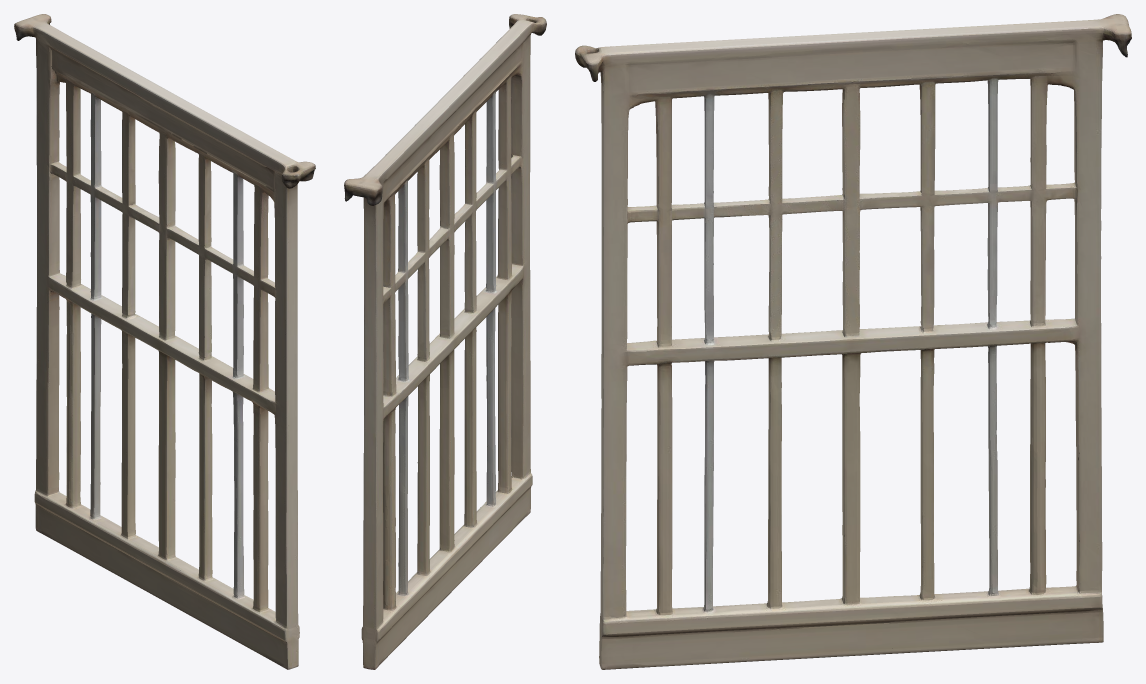
Rendered from window_on_right_000.glb.
The picture shows the model from 3 angles, left to right: view 1: azimuth 30°, elevation 25°; view 2: azimuth 150°, elevation 25°; view 3: azimuth 270°, elevation 25°; orthographic projection. The views are drawn at different scales.
Parts seen in each view (by area): view 1: phase2_final_window_on_right_000.obj; view 2: phase2_final_window_on_right_000.obj; view 3: phase2_final_window_on_right_000.obj.
Boxes of the visible parts, x1,y1,x2,y2 form: phase2_final_window_on_right_000.obj: [14, 14, 315, 669]; phase2_final_window_on_right_000.obj: [344, 14, 546, 669]; phase2_final_window_on_right_000.obj: [575, 14, 1131, 669].
Bounding box in the file's own units: 0.1526 × 0.8841 × 0.7244.
1 material, 1 textured.
